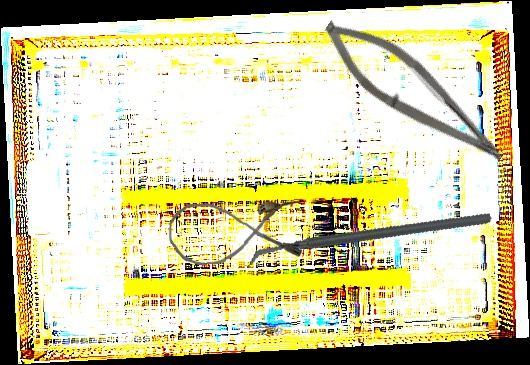Cannula: (166, 198, 303, 267)
Chopper: (244, 155, 493, 325)
Micro Scissor: (308, 6, 522, 176)
